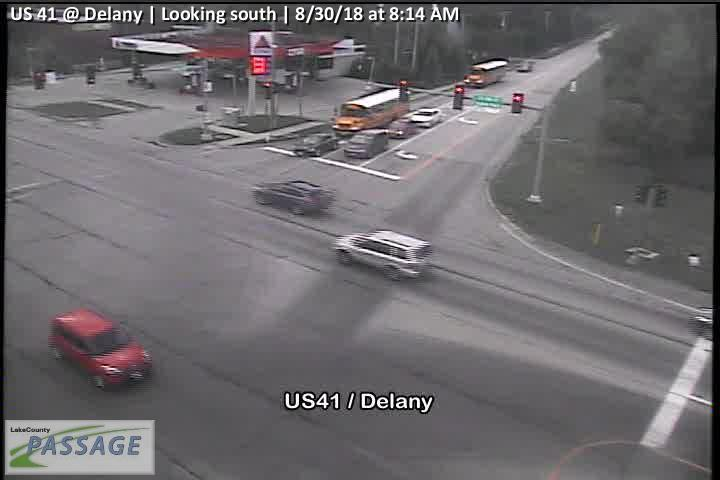Bus: (334, 87, 408, 129), (464, 59, 509, 88)
SUV: (48, 306, 156, 394), (331, 228, 434, 283), (253, 178, 333, 218), (341, 130, 387, 158)
Sedan: (291, 131, 339, 158), (410, 109, 441, 129), (389, 120, 415, 140), (516, 59, 533, 72)
